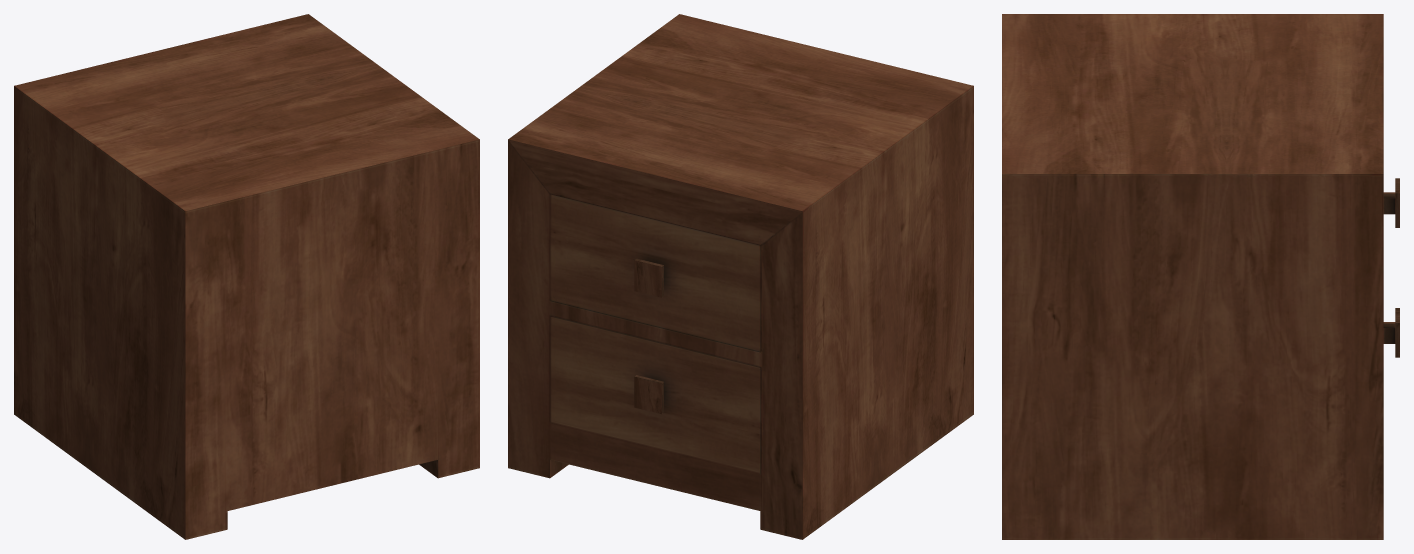
Rendered from BedTable.glb.
3 views of the same model, side by side, from view 1: azimuth 30°, elevation 25°; view 2: azimuth 150°, elevation 25°; view 3: azimuth 270°, elevation 25° (orthographic). The views are drawn at different scales.
Parts seen in each view (by area): view 1: Bollard; view 2: Bollard; view 3: Bollard.
Part boxes in pixels (left/top/right/bottom): Bollard: left=14, top=14, right=479, bottom=539; Bollard: left=508, top=14, right=973, bottom=539; Bollard: left=1002, top=14, right=1399, bottom=539.
Size of the model in its own units: 0.6138 by 0.6546 by 0.645.
Materials: 1 (1 with a texture image).
